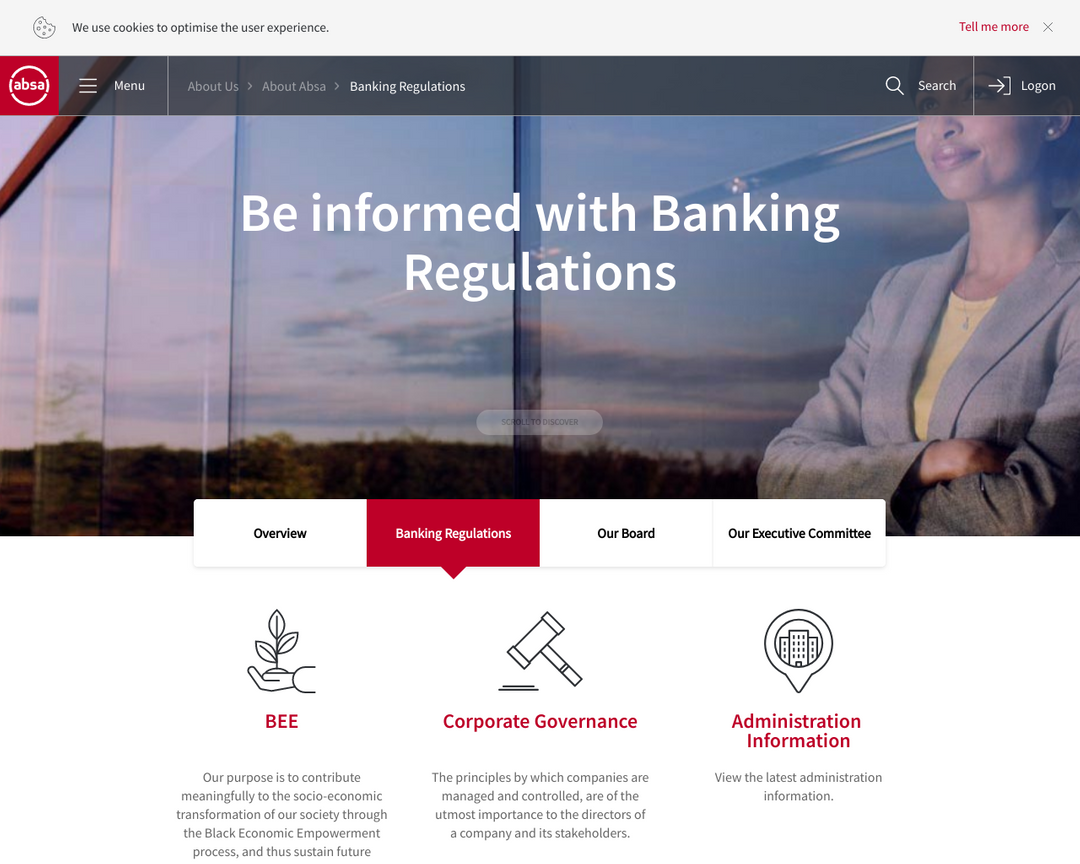ABSA: (6, 63, 52, 110)
